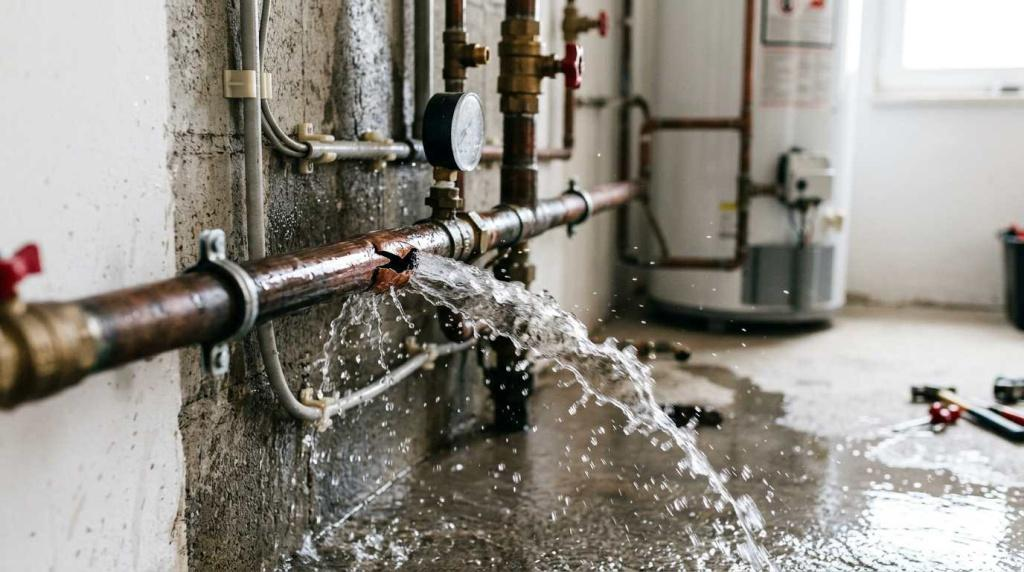pipe burst: (393, 250, 776, 557)
water accumulation: (278, 352, 1024, 572)
